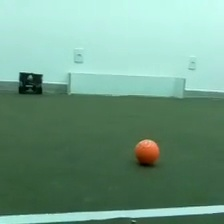ball: (132, 137, 163, 168)
goal: (64, 69, 187, 100)
robot: (16, 69, 45, 97)
